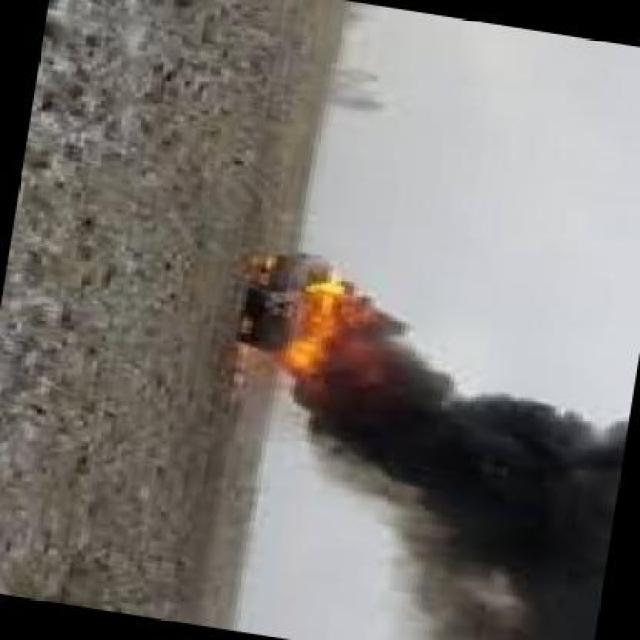Fire: (240, 256, 344, 397)
Smoke: (346, 300, 608, 636)
